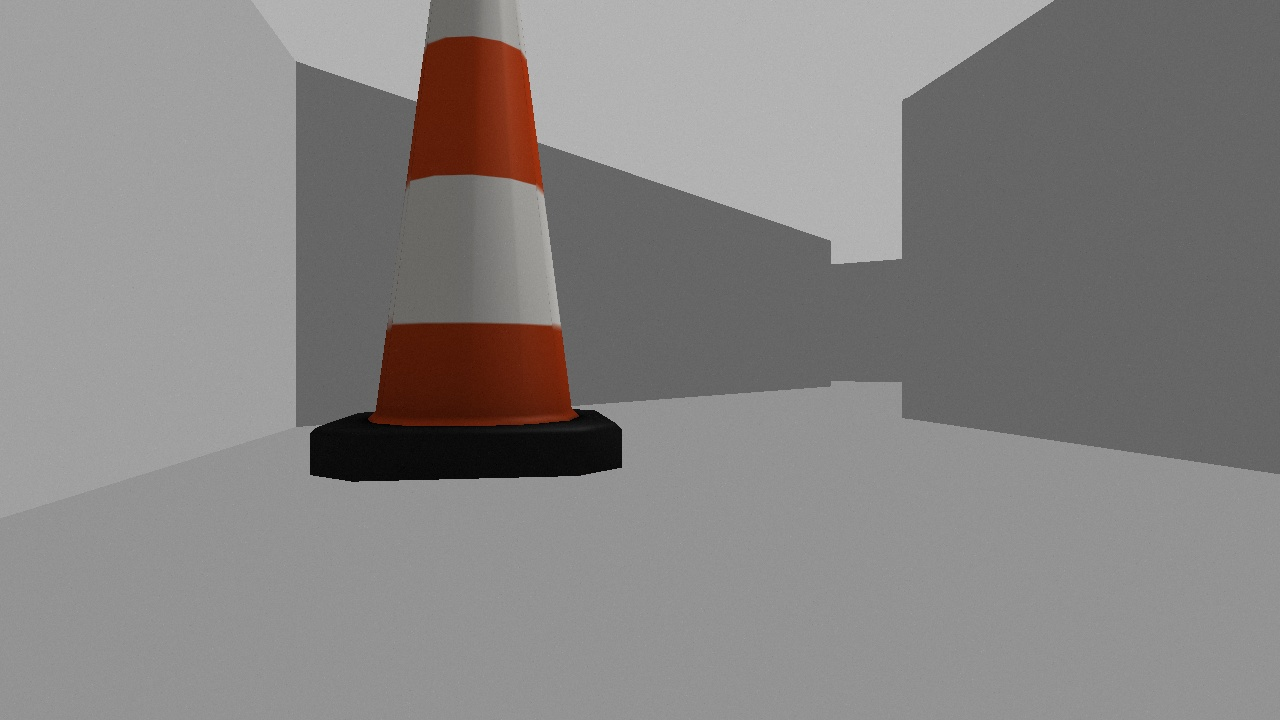barricade: (309, 1, 621, 481)
